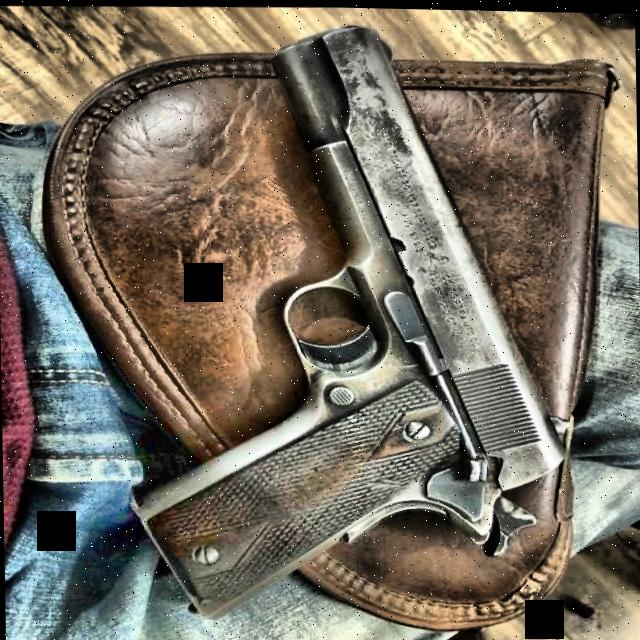Colt m1911: (114, 12, 579, 635)
